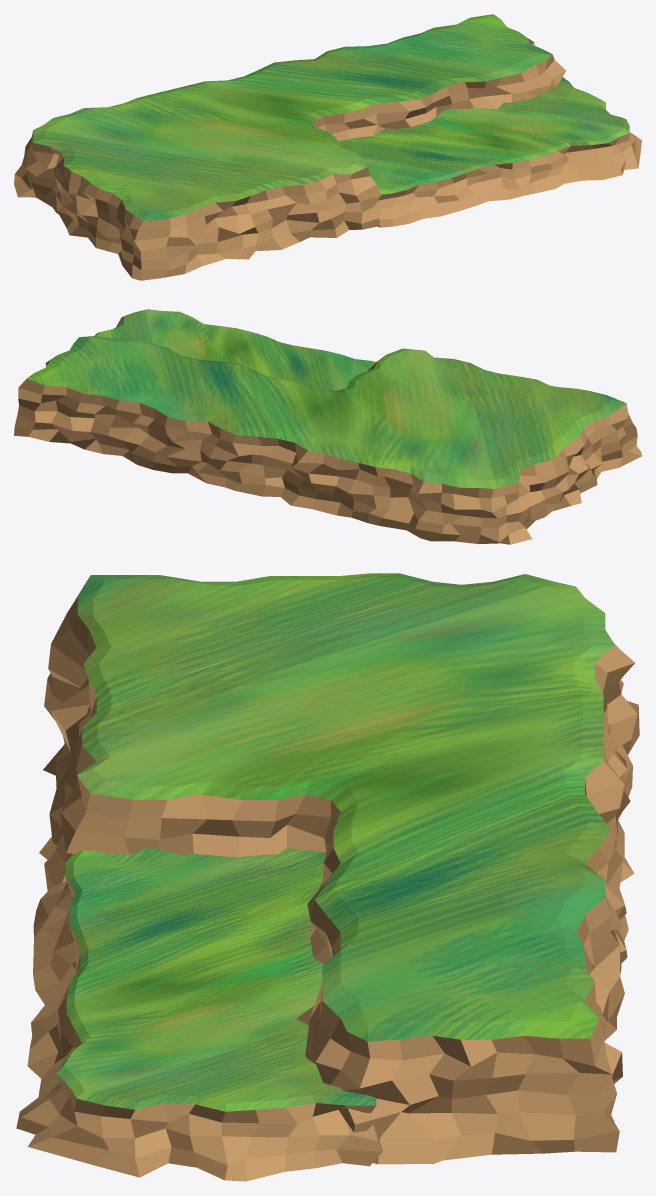
Rendered from Tebing Atas.fbx.
The picture shows the model from 3 angles, top to bottom: view 1: azimuth 30°, elevation 25°; view 2: azimuth 150°, elevation 25°; view 3: azimuth 270°, elevation 25°; orthographic projection. The views are drawn at different scales.
Visible parts, largest first — view 1: Cube.014; view 2: Cube.014; view 3: Cube.014.
Boxes of the visible parts, x1=… form: Cube.014: x1=14, y1=14, x2=641, y2=280; Cube.014: x1=14, y1=309, x2=641, y2=544; Cube.014: x1=16, y1=573, x2=639, y2=1181.
Size of the model in its own units: 4458 by 464 by 2270.
